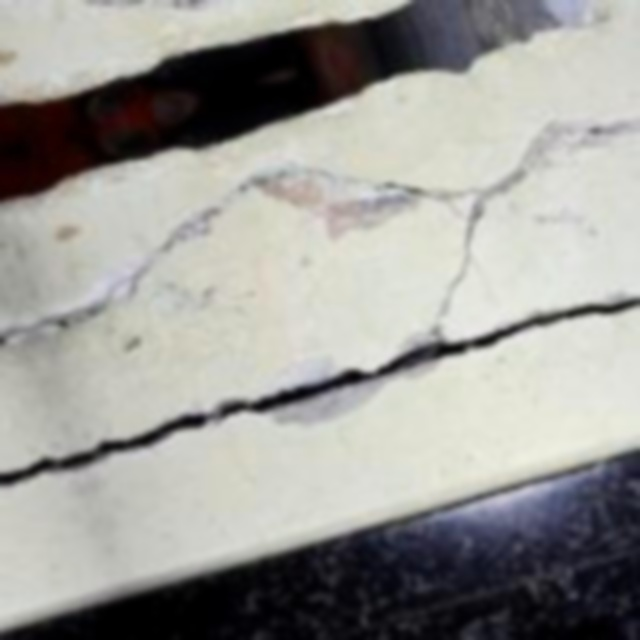SurfaceCrack: (0, 256, 640, 500)
